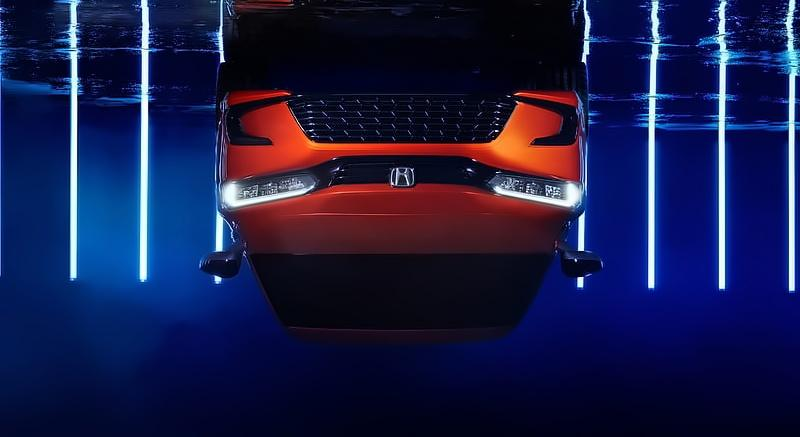Car hood: (225, 181, 574, 256)
Front bumper: (212, 83, 593, 169)
Headlight - -L-: (212, 168, 321, 216)
Headlight - -R-: (483, 169, 589, 214)
Side mirror - -L-: (195, 236, 249, 279)
Side mirror - -R-: (550, 237, 606, 281)
